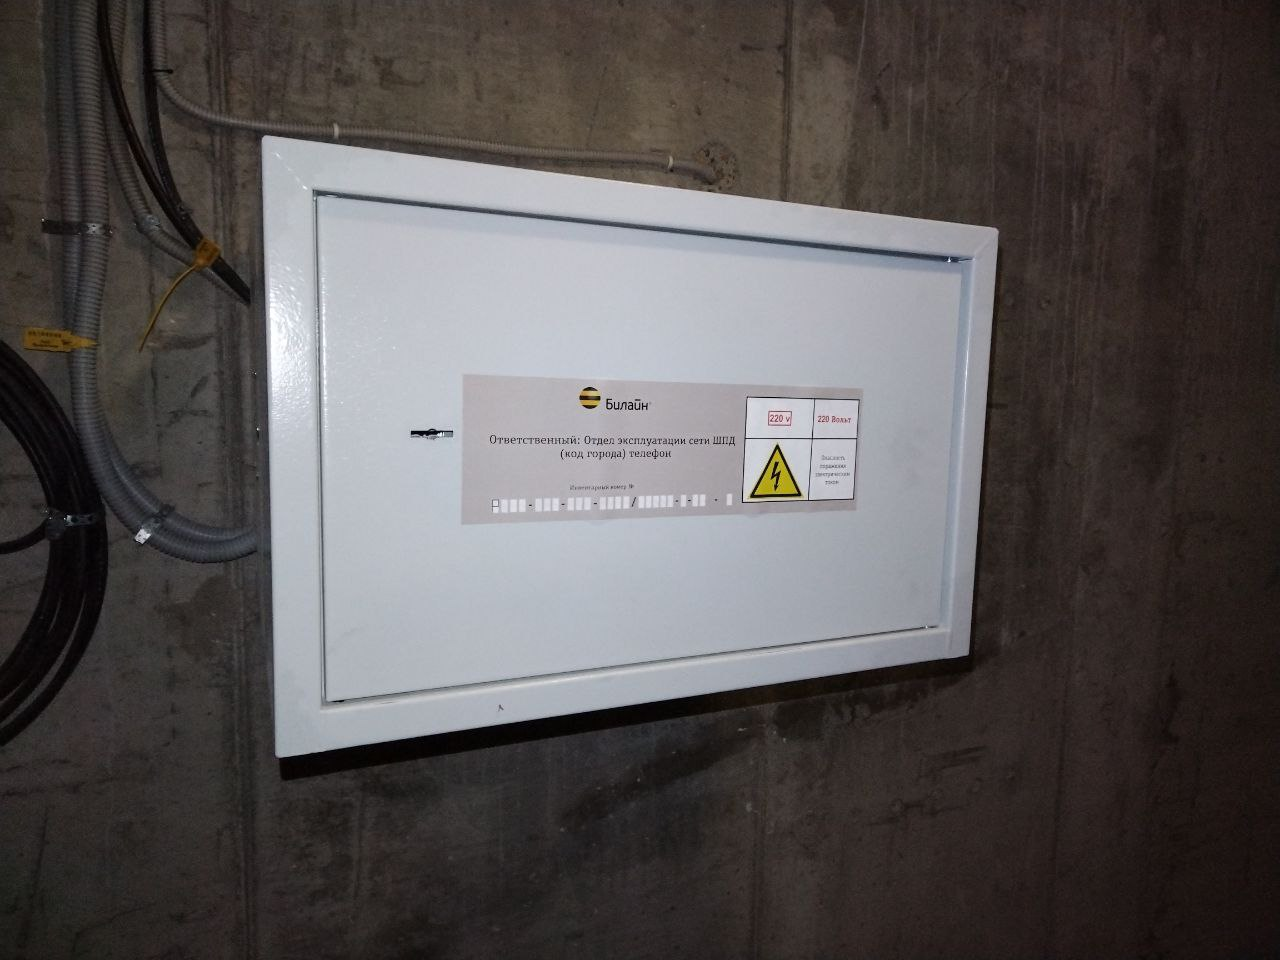shta-7m: (244, 123, 1017, 772)
